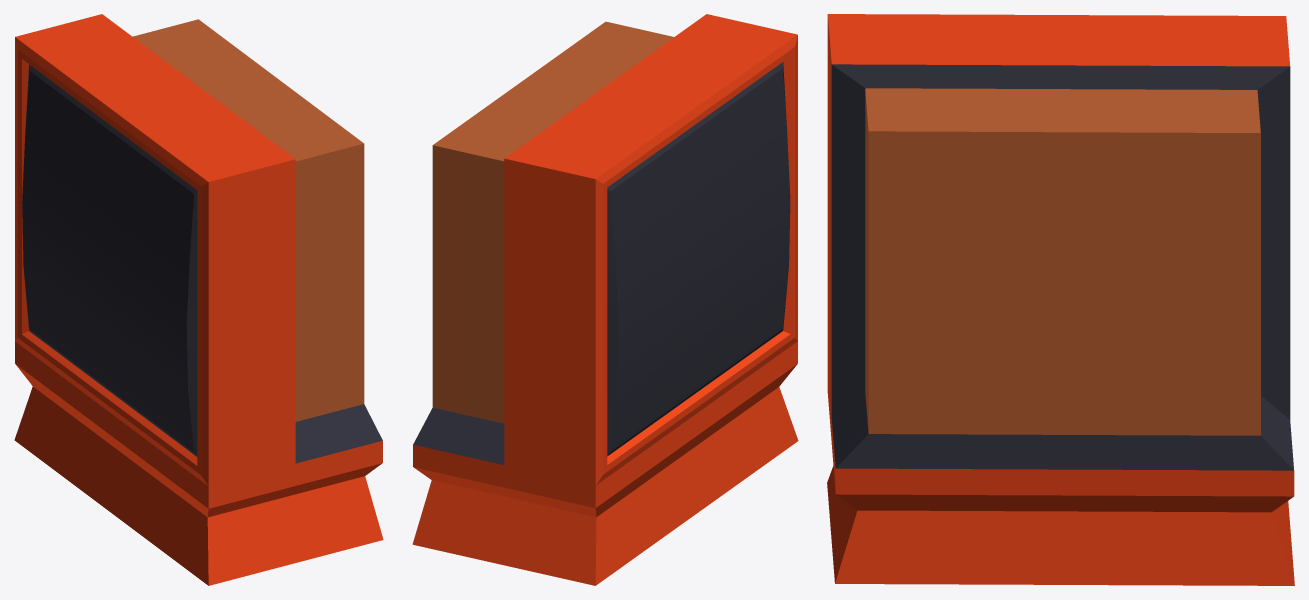
File: BigScreen.fbx
3 views of the same model, side by side, from view 1: azimuth 30°, elevation 25°; view 2: azimuth 150°, elevation 25°; view 3: azimuth 270°, elevation 25° (orthographic). The views are drawn at different scales.
Visible parts, largest first — view 1: BigScreen; view 2: BigScreen; view 3: BigScreen.
Boxes of the visible parts, box(x1,y1,x2,y2) form: BigScreen: box(14, 14, 383, 585); BigScreen: box(412, 14, 798, 585); BigScreen: box(827, 14, 1294, 585).
Size of the model in its own units: 1.23 by 2.52 by 2.28.
